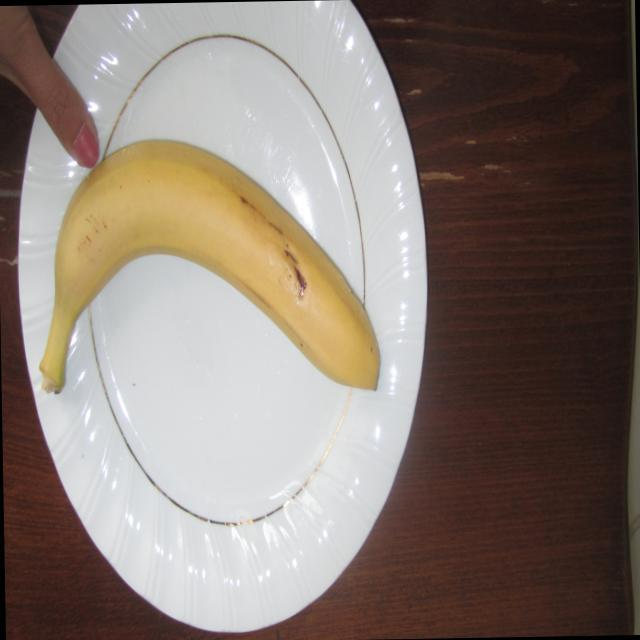Banana: (30, 128, 392, 406)
Finger: (28, 48, 112, 172)
